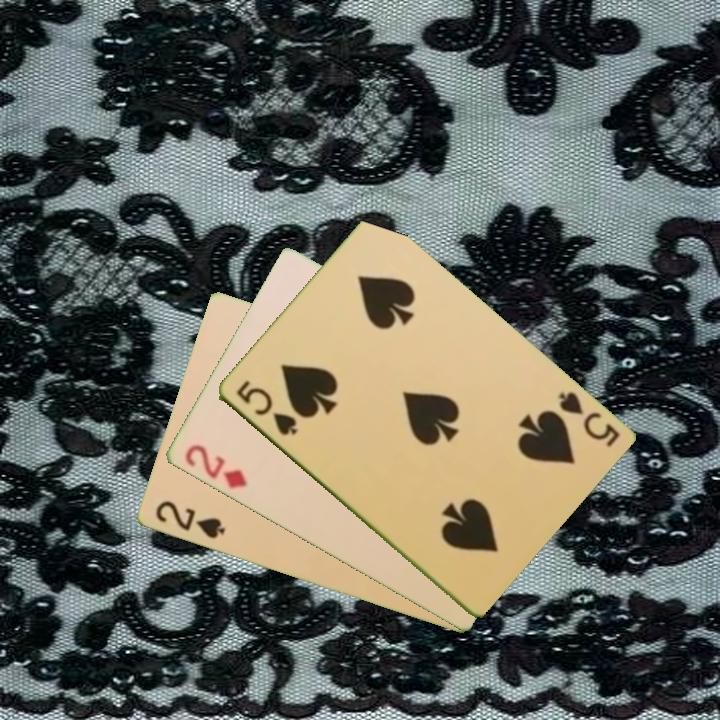2d: (180, 441, 250, 492)
2s: (151, 497, 228, 542)
5s: (232, 376, 300, 439), (553, 388, 622, 450)
